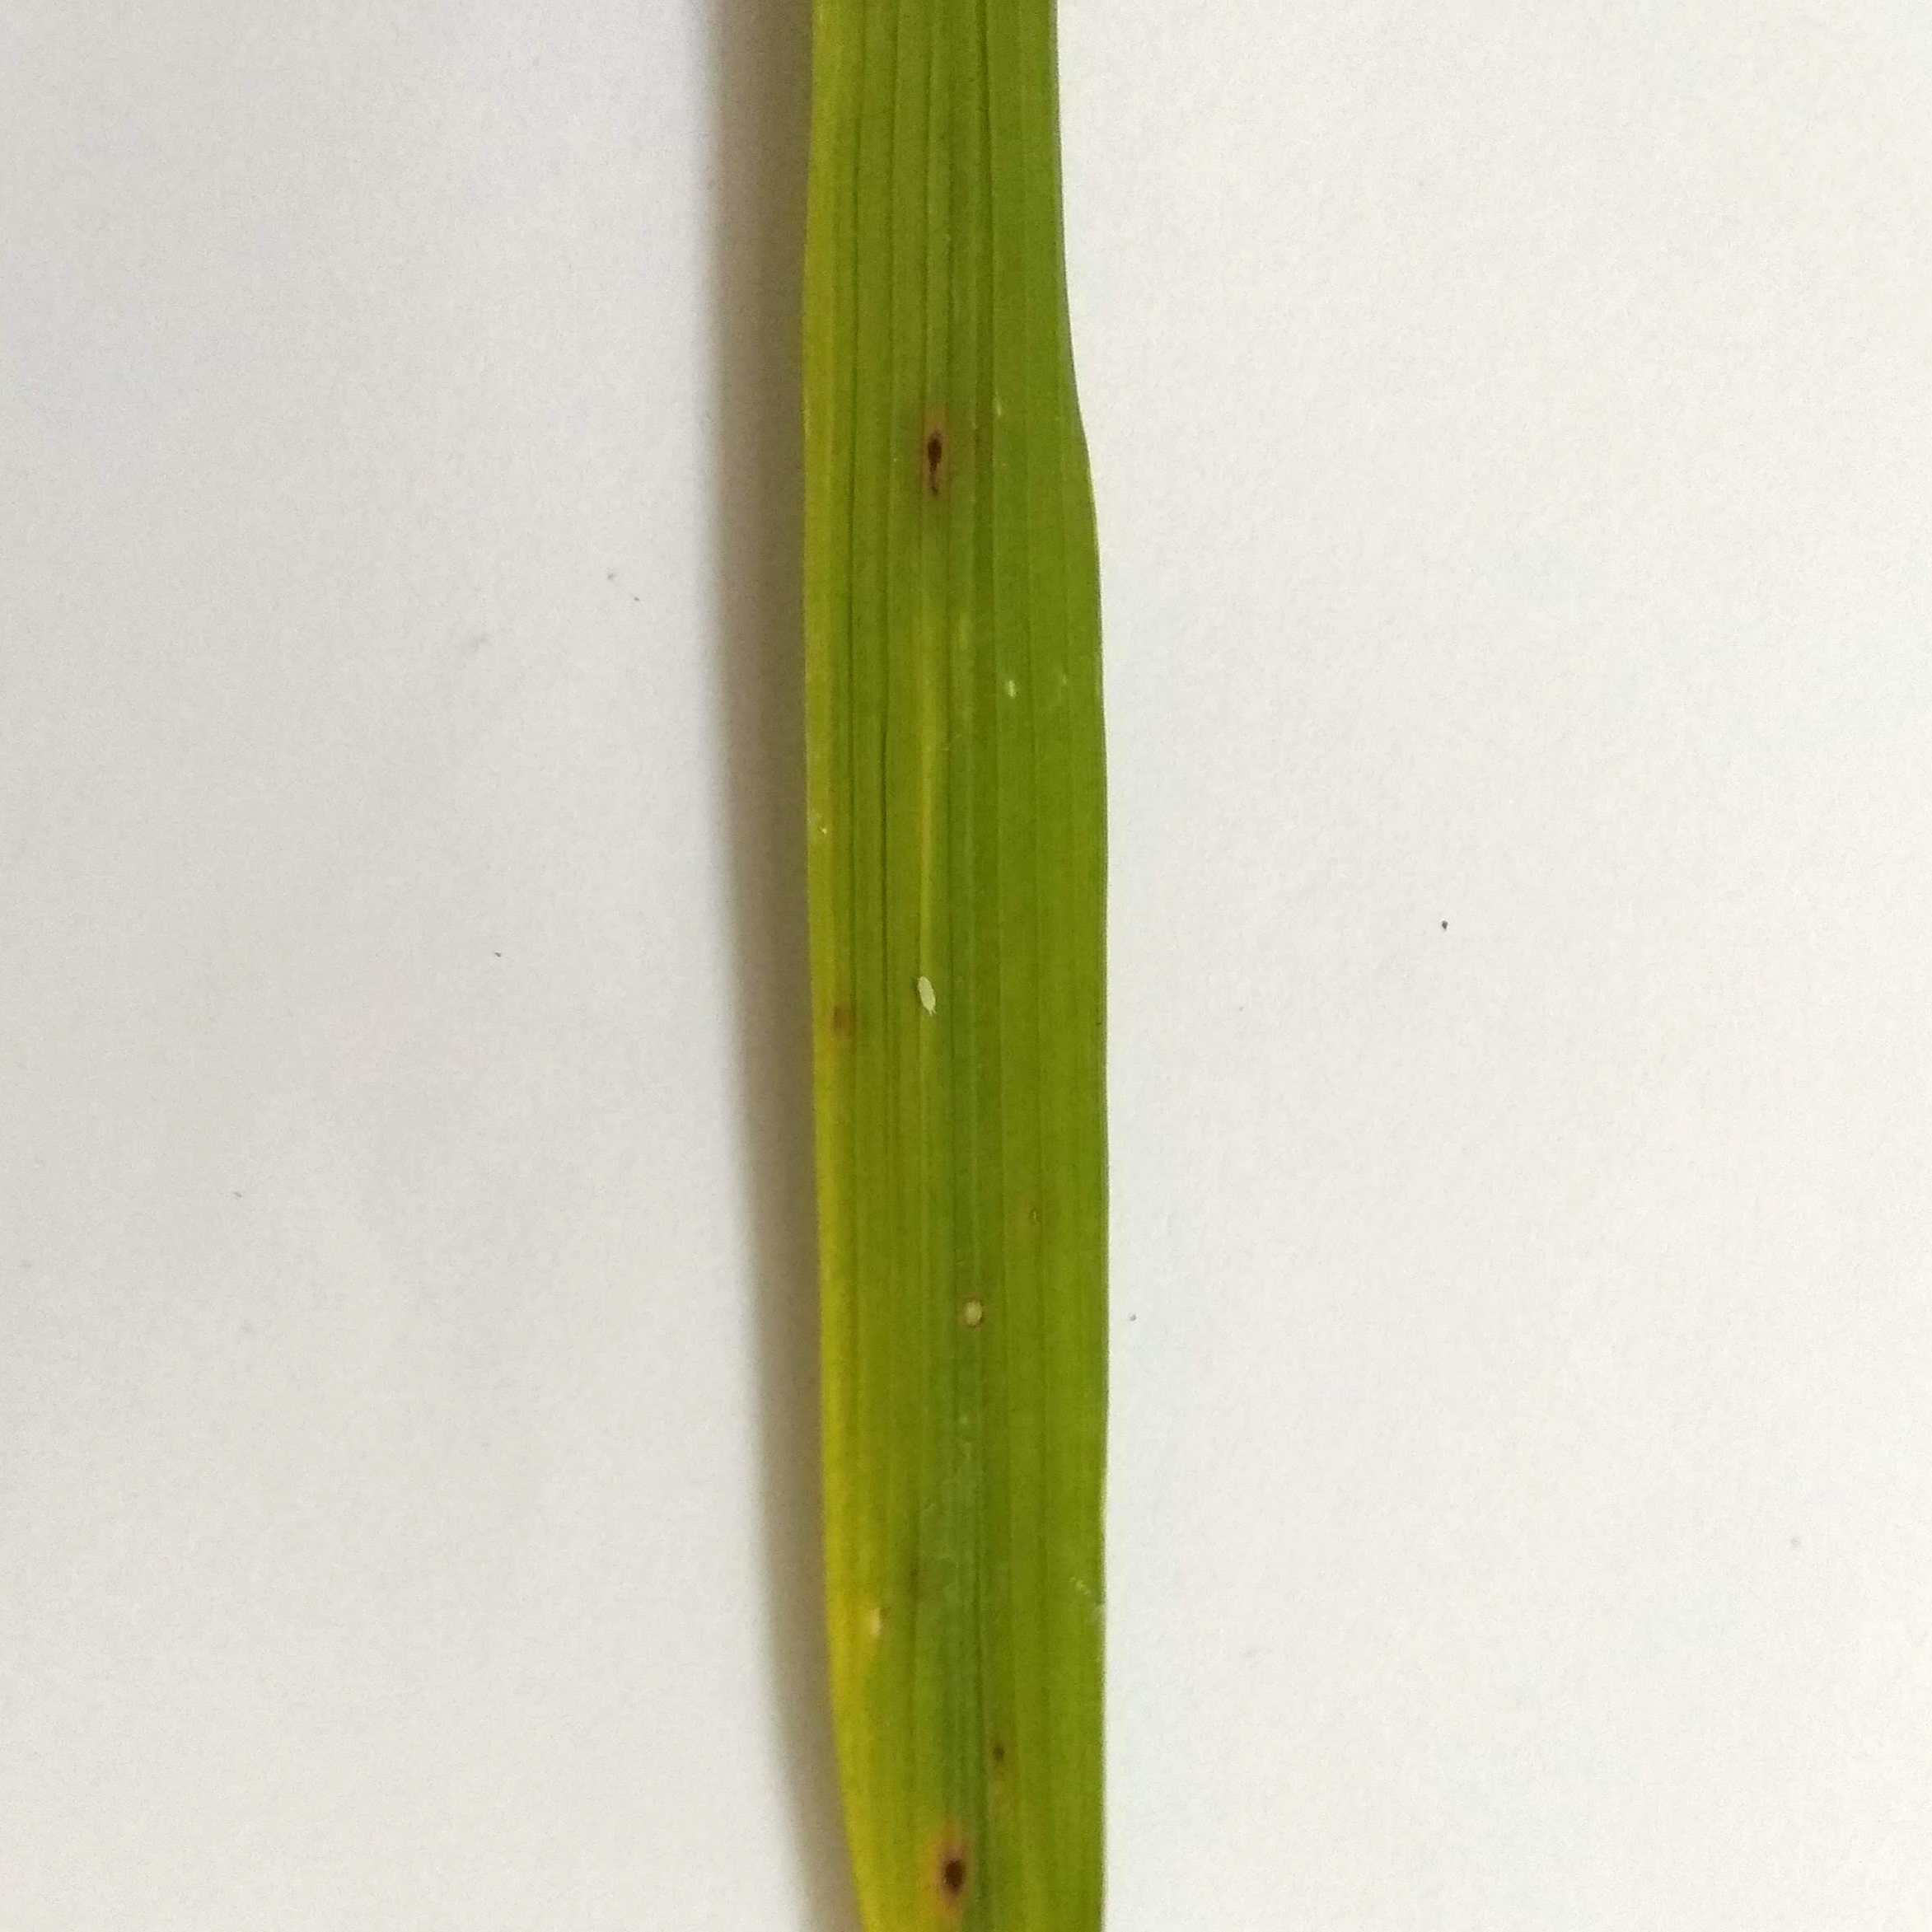brown spot: (905, 399, 979, 521), (908, 1819, 993, 1919), (816, 979, 879, 1069), (981, 1717, 1022, 1788)
